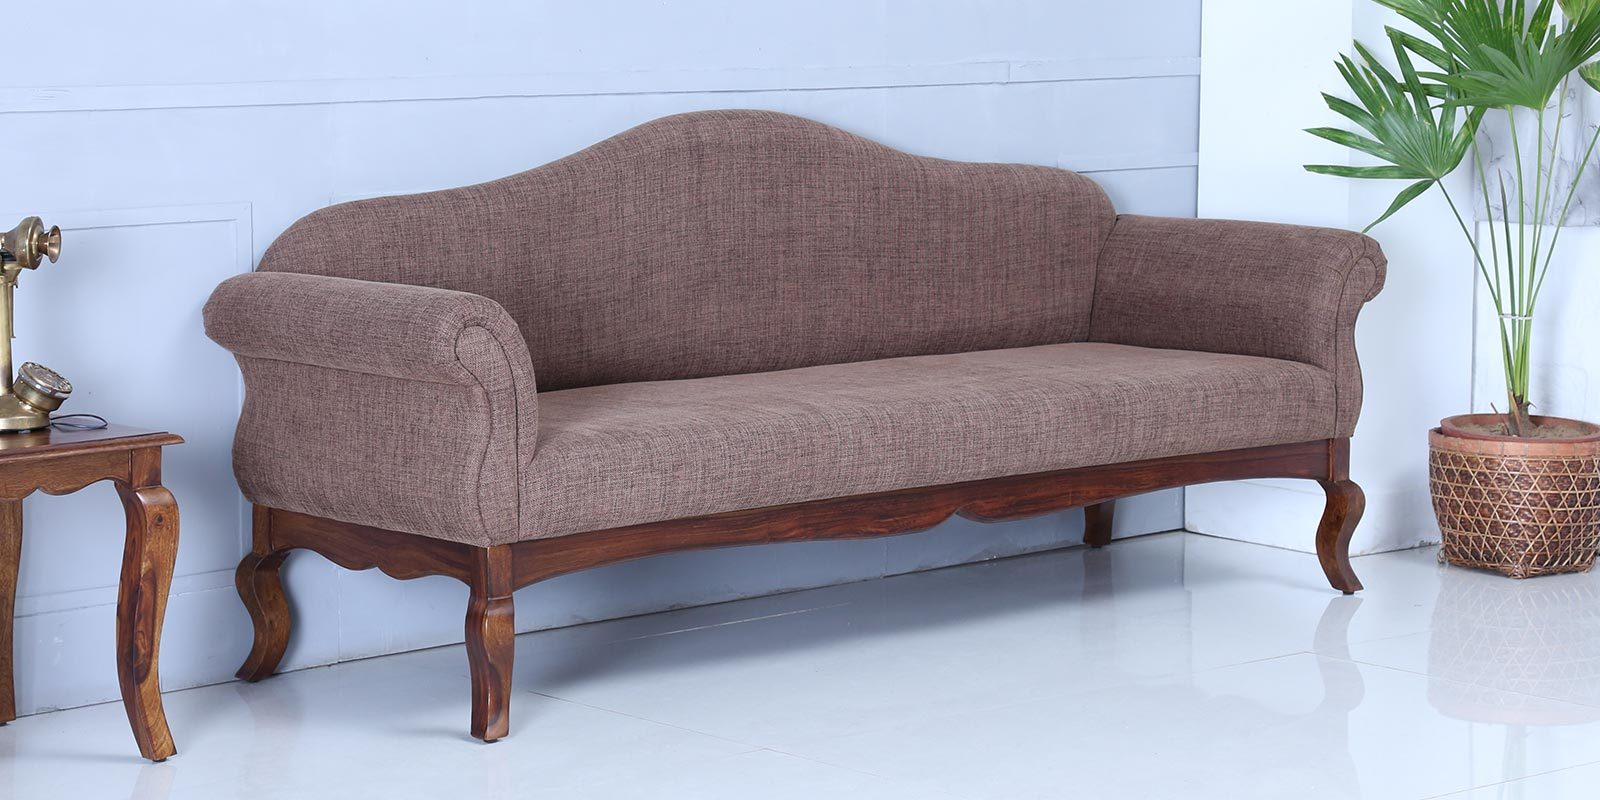Anne Three Seater Sofa in Provincial Teak Finish by Amberville: (190, 91, 1397, 707)
